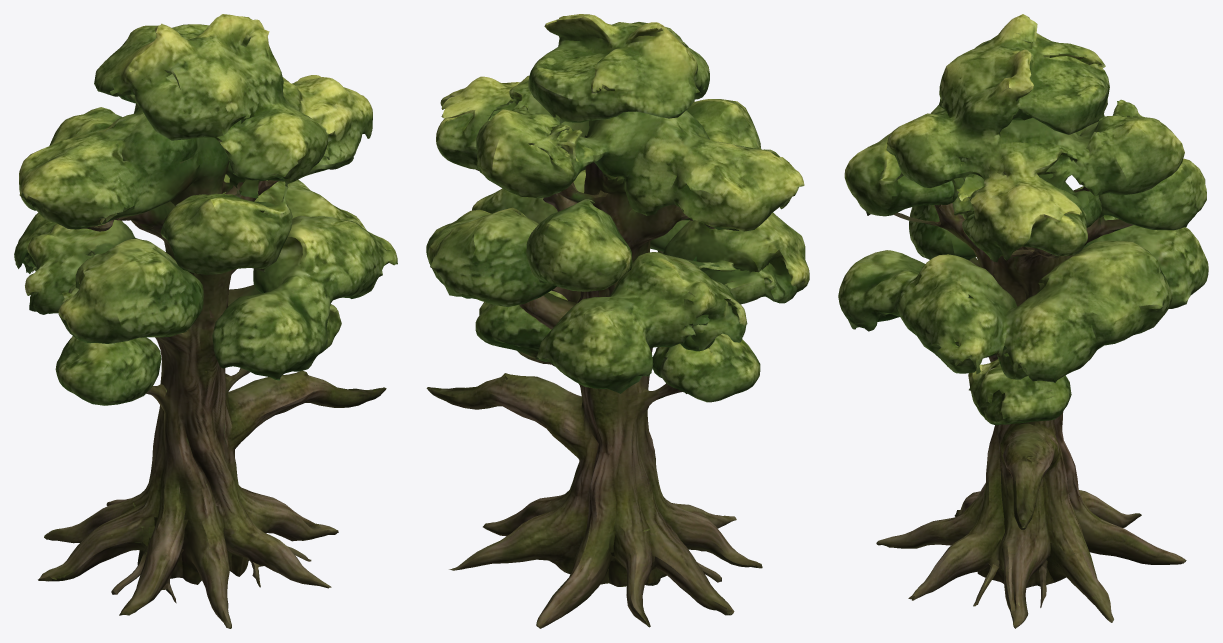
The model's file is meadows_grove_oak_c.glb.
3 views of the same model, side by side, from view 1: azimuth 30°, elevation 25°; view 2: azimuth 150°, elevation 25°; view 3: azimuth 270°, elevation 25° (orthographic). The views are drawn at different scales.
Parts seen in each view (by area): view 1: Mesh_0; view 2: Mesh_0; view 3: Mesh_0.
Part boxes in pixels (x1,y1,x2,y2): Mesh_0: (14, 14, 397, 628); Mesh_0: (426, 14, 809, 628); Mesh_0: (838, 14, 1208, 628).
Bounding box in the file's own units: 1.33 × 1.89 × 1.19.
1 material, 1 textured.
